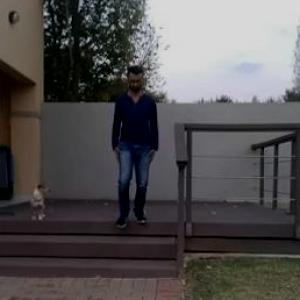follow: (120, 68, 160, 232)
